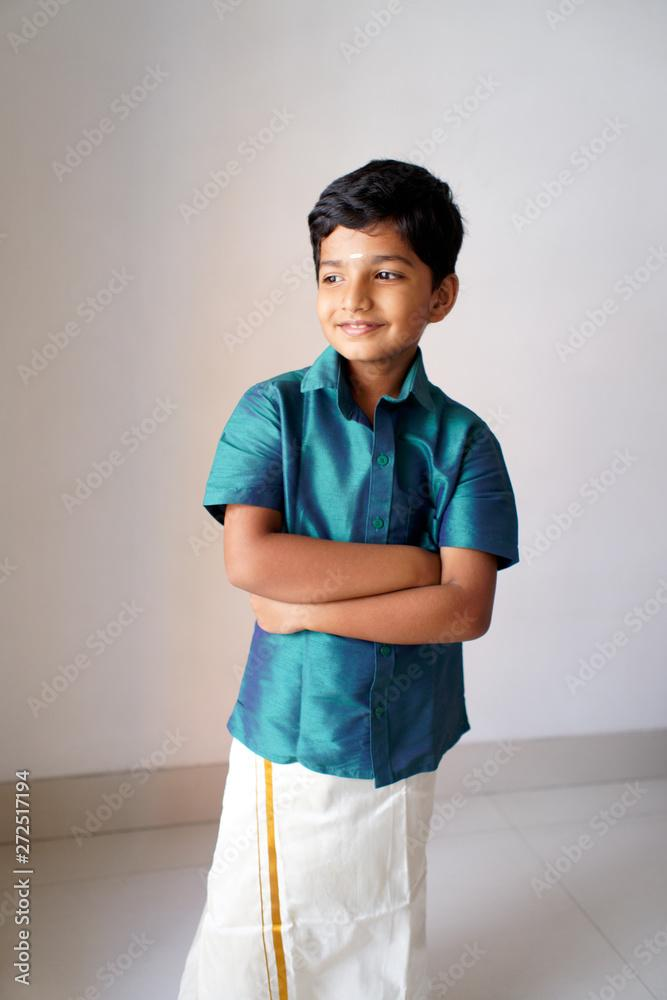Human: (171, 118, 513, 1000)
